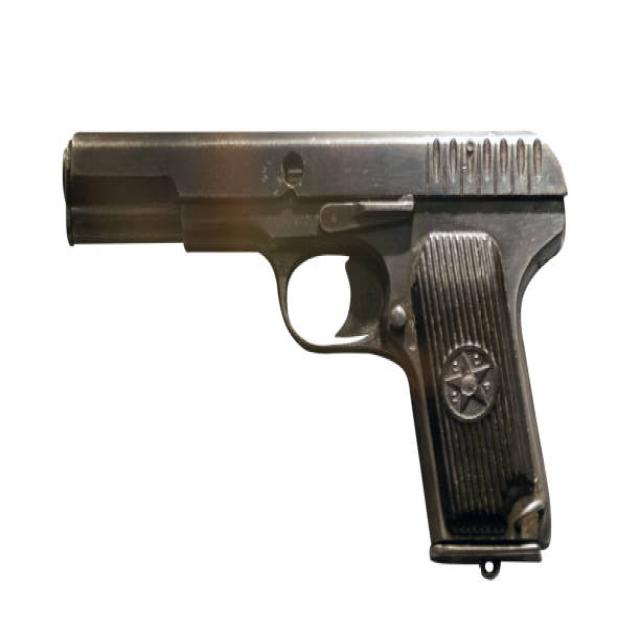pistol: (56, 119, 574, 588)
